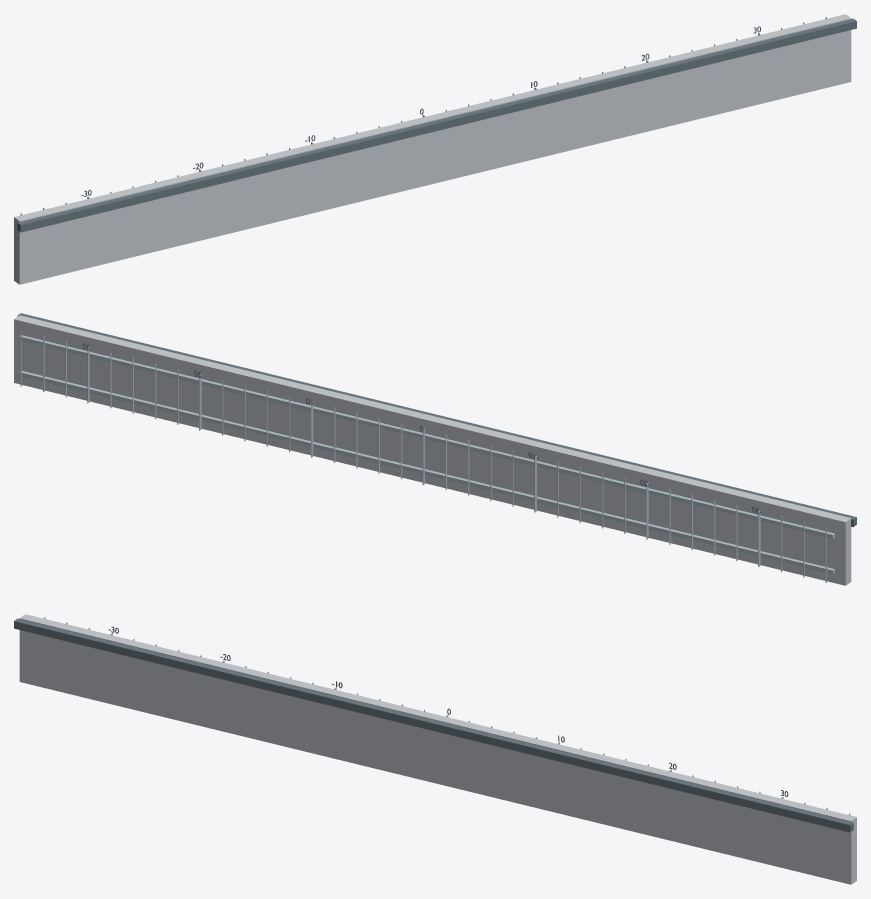
Rendered from bench.glb.
The picture shows the model from 3 angles, top to bottom: view 1: azimuth 30°, elevation 25°; view 2: azimuth 150°, elevation 25°; view 3: azimuth 330°, elevation 25°; orthographic projection.
Parts seen in each view (by area): view 1: bench body, front bevel; view 2: bench body, steel rail.001, steel rail, front bevel; view 3: bench body, front bevel.
Part boxes in pixels (<box>): bench body: <box>14,14,851,284</box>; front bevel: <box>17,18,856,232</box>; bench body: <box>14,315,851,585</box>; steel rail.001: <box>19,335,834,538</box>; steel rail: <box>19,371,834,574</box>; front bevel: <box>17,313,856,527</box>; bench body: <box>19,614,856,884</box>; front bevel: <box>14,618,853,832</box>.
Bounding box in the file's own units: 18.7 × 1.38 × 0.666.
